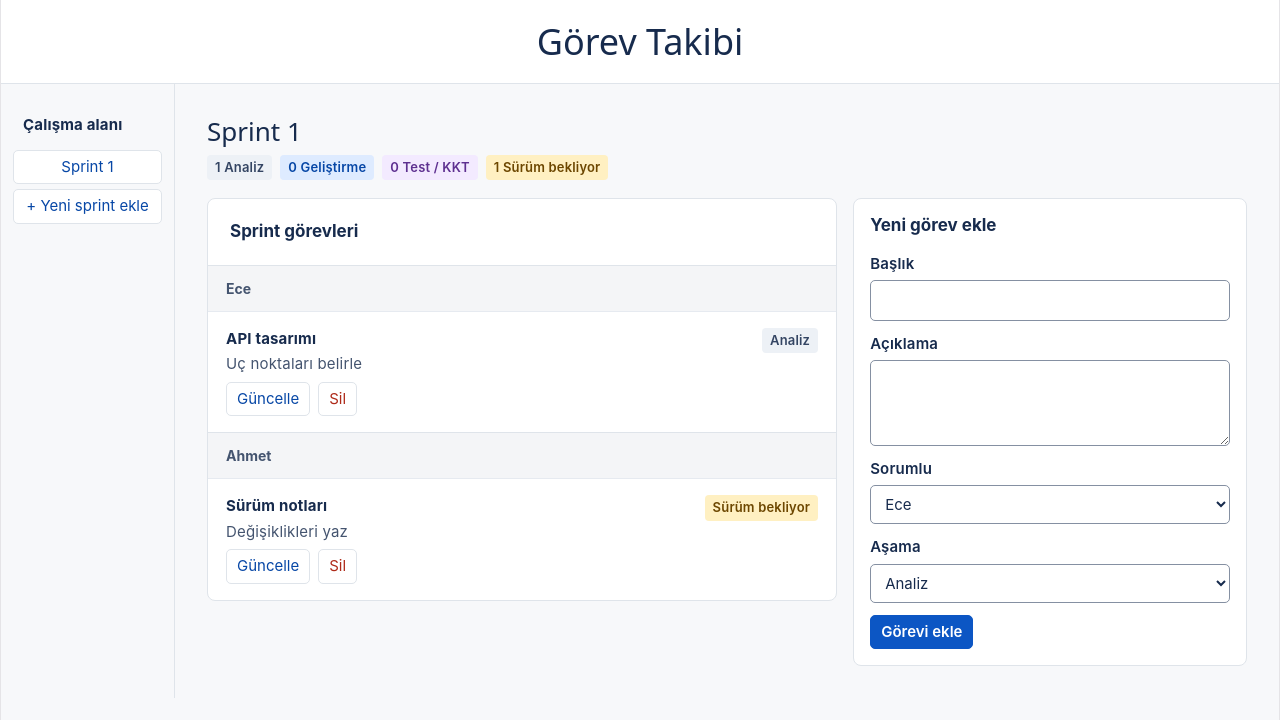
Test: App › görevi günceller
Click the button "Güncelle" below "API tasarımı". click: click(268, 399)
box: [226, 382, 310, 416]
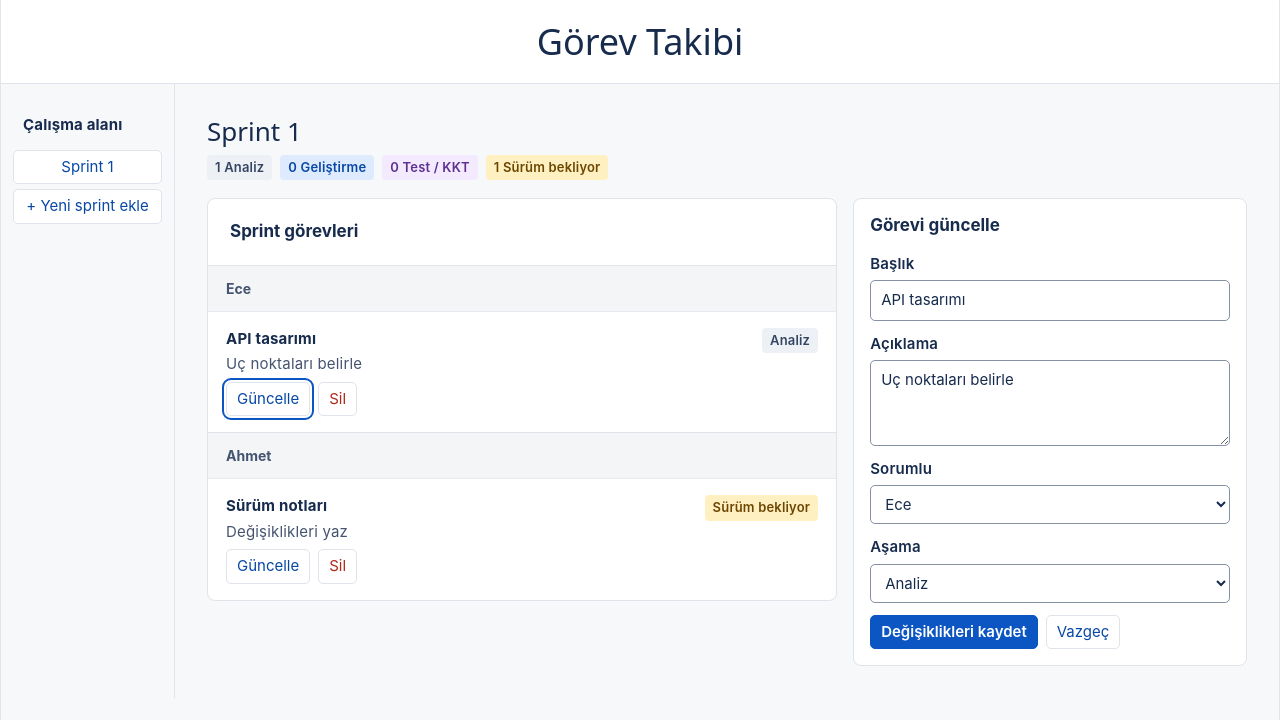
Expected: the heading "Görevi güncelle" is shown, [870, 215, 1000, 235]
Replace the text in the field labelled "Başlık" with "API sözleşmesi". click: (1050, 301)
box: [870, 280, 1230, 321]
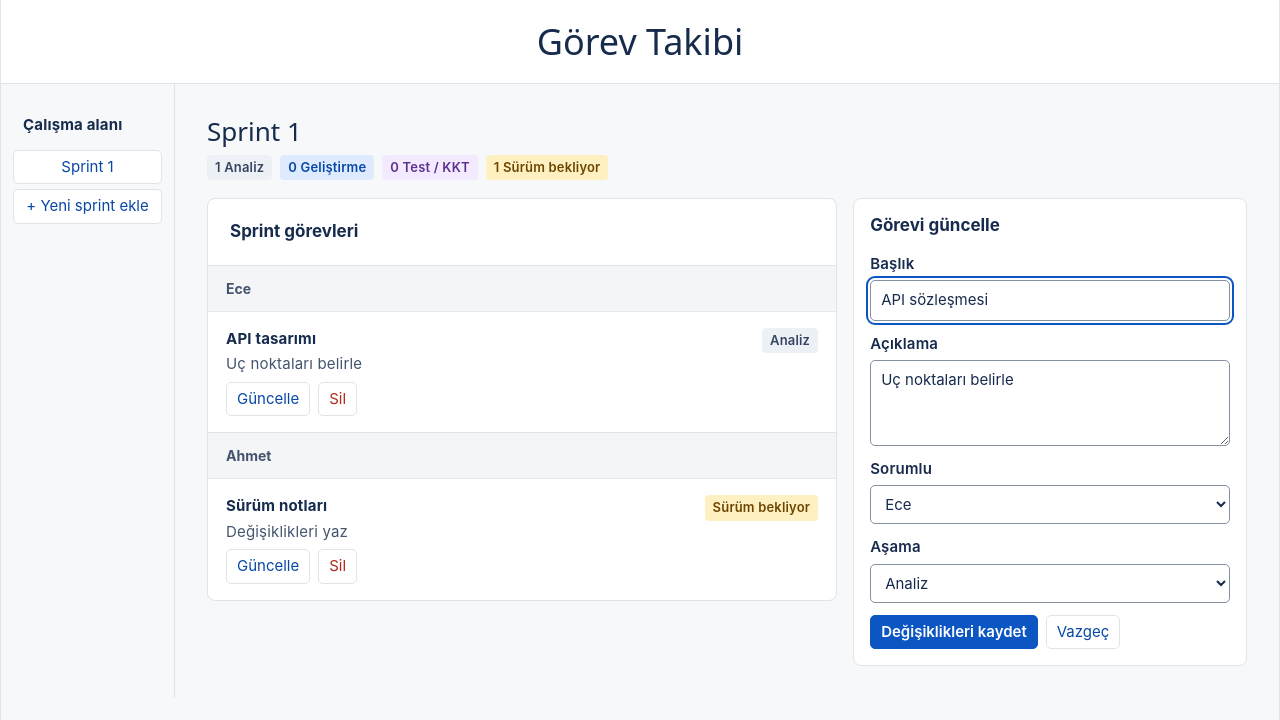
Click the button "Değişiklikleri kaydet". click: click(954, 632)
box: [870, 615, 1038, 649]
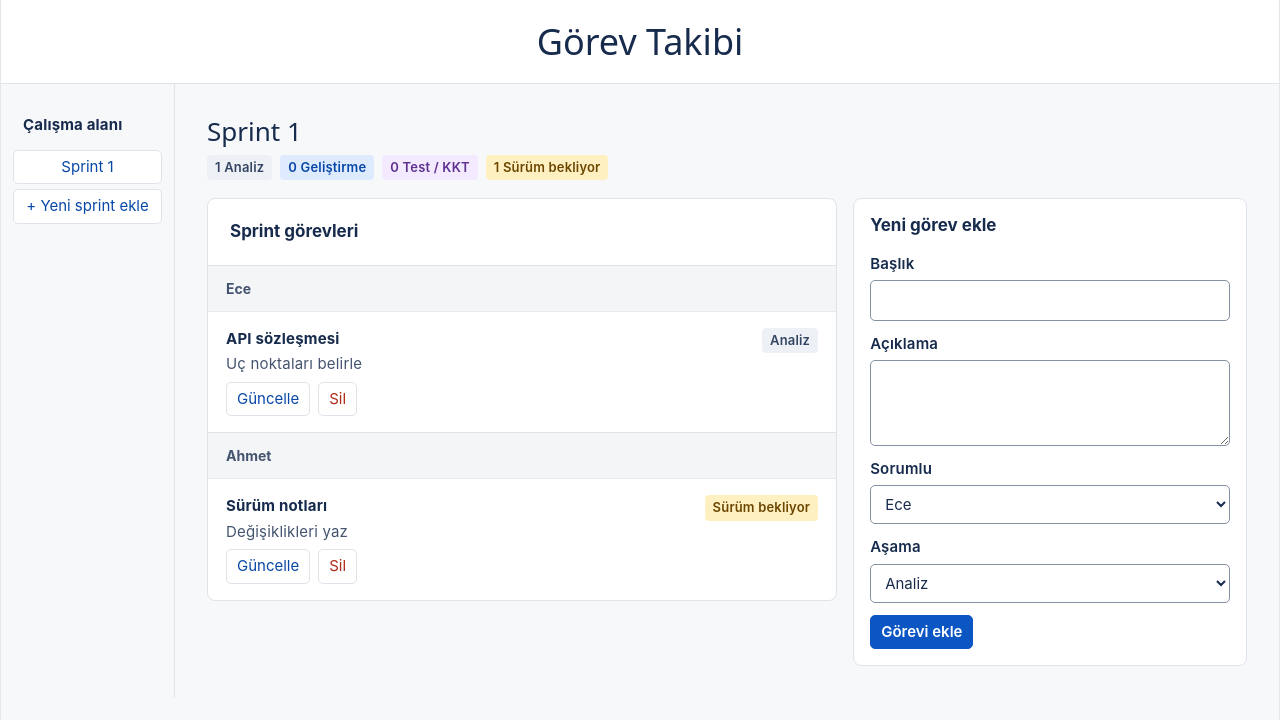
Expected: the text "API sözleşmesi" is shown, [226, 329, 340, 348]
Expected: the text "API tasarımı" is gone
Expected: the heading "Yeni görev ekle" is shown, [870, 215, 996, 235]
